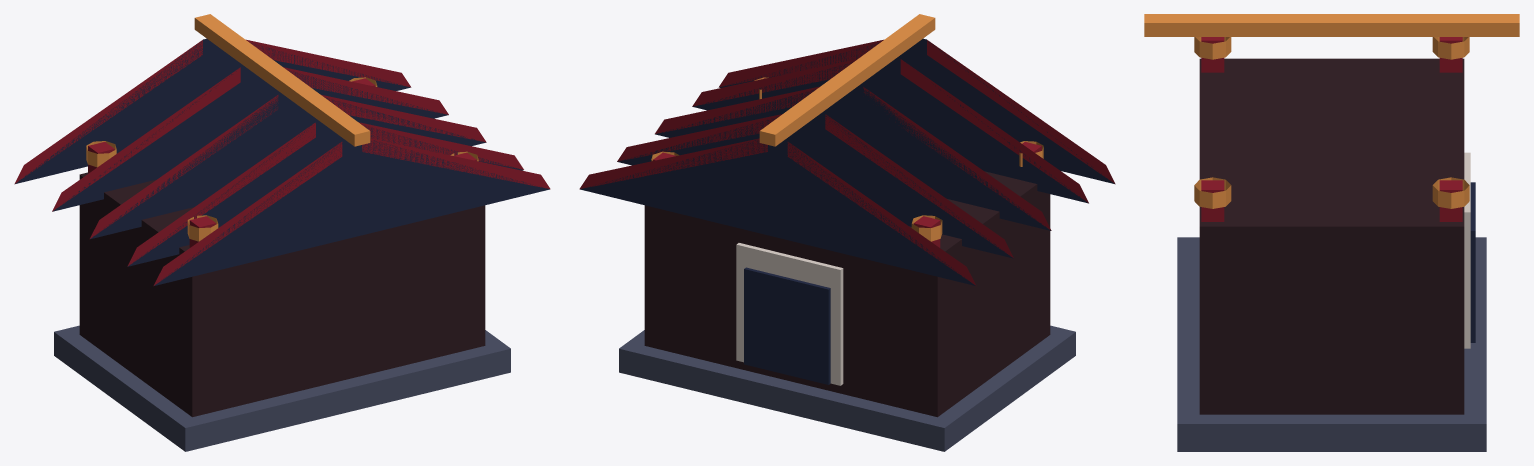
File: dojo_shrine_arched_roof.obj
The picture shows the model from 3 angles, left to right: view 1: azimuth 30°, elevation 25°; view 2: azimuth 150°, elevation 25°; view 3: azimuth 270°, elevation 25°; orthographic projection. The views are drawn at different scales.
Parts seen in each view (by area): view 1: dojo_shrine_arched_roof; view 2: dojo_shrine_arched_roof; view 3: dojo_shrine_arched_roof.
Boxes of the visible parts, <box> form: dojo_shrine_arched_roof: <box>14,14,550,451</box>; dojo_shrine_arched_roof: <box>579,14,1115,451</box>; dojo_shrine_arched_roof: <box>1144,14,1519,451</box>.
Bounding box in the file's own units: 12.2 × 8.5 × 8.5.
